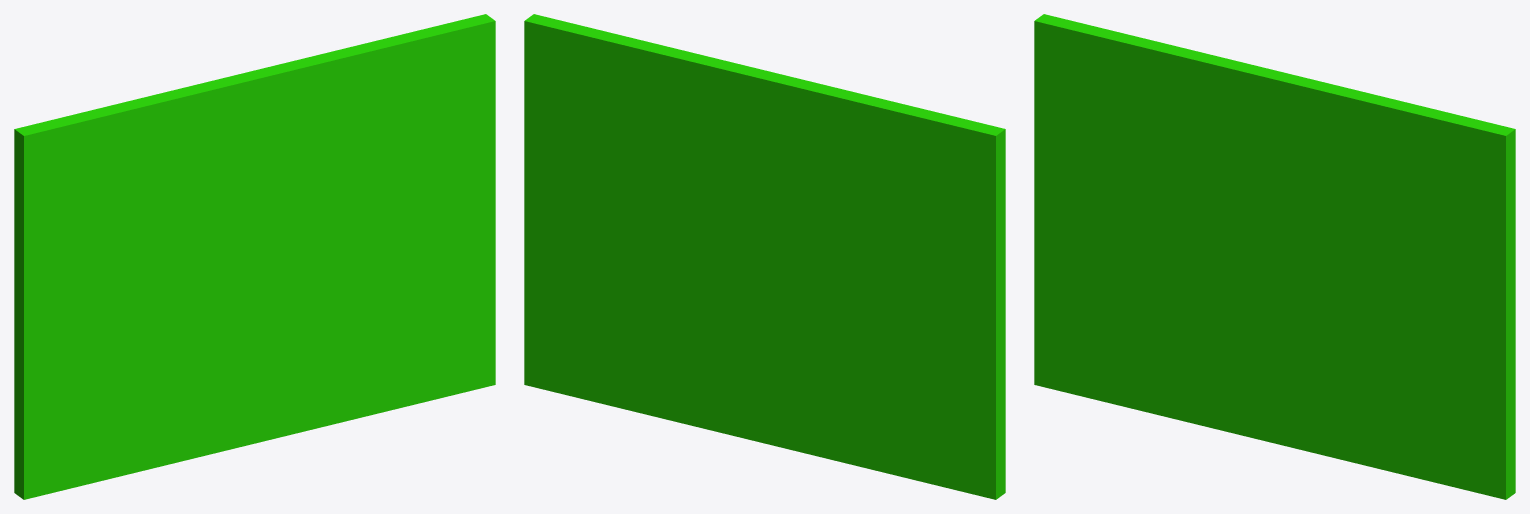
The model's file is BH04B_Wall_Int_12.fbx.
3 renders of one model, left to right at view 1: azimuth 30°, elevation 25°; view 2: azimuth 150°, elevation 25°; view 3: azimuth 330°, elevation 25°, orthographic.
Parts seen in each view (by area): view 1: BH04B_Wall_Int_12; view 2: BH04B_Wall_Int_12; view 3: BH04B_Wall_Int_12.
Part boxes in pixels (left/top/right/bottom): BH04B_Wall_Int_12: left=14, top=14, right=495, bottom=499; BH04B_Wall_Int_12: left=524, top=14, right=1005, bottom=499; BH04B_Wall_Int_12: left=1034, top=14, right=1515, bottom=499.
Size of the model in its own units: 407 by 300 by 14.35.
